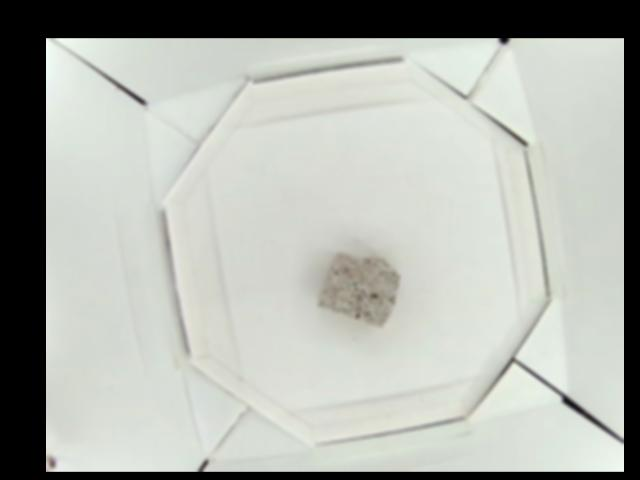China: (317, 250, 397, 326)
